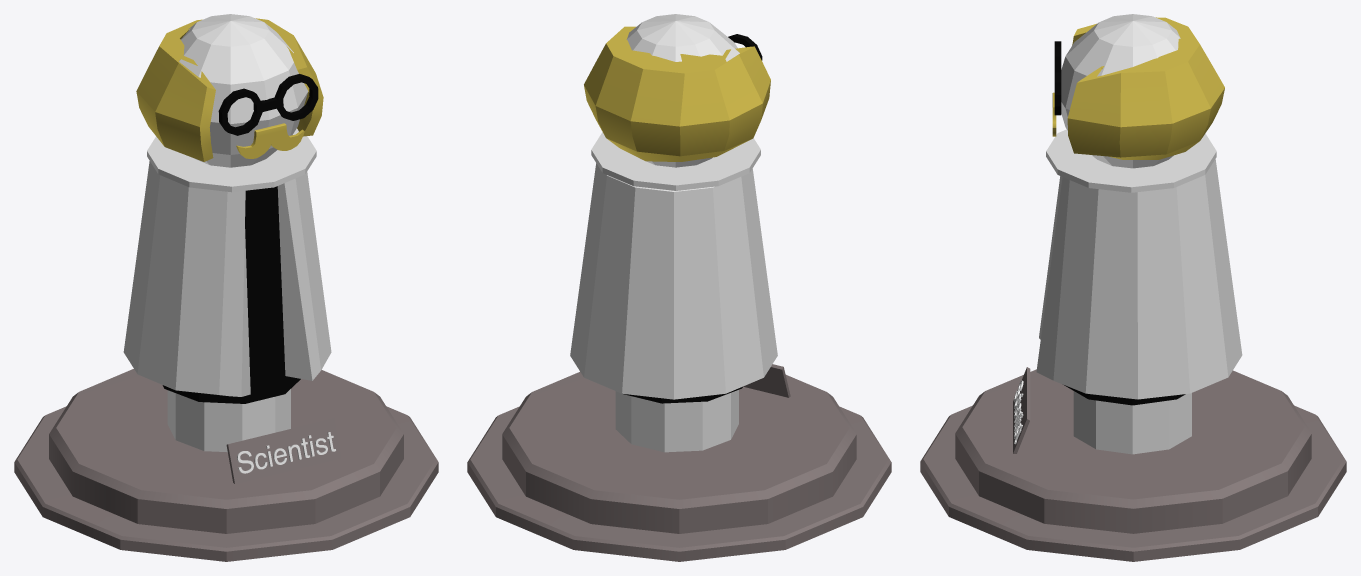
Rendered from scientist.fbx.
3 renders of one model, left to right at view 1: azimuth 30°, elevation 25°; view 2: azimuth 150°, elevation 25°; view 3: azimuth 270°, elevation 25°, orthographic.
Visible parts, largest first — view 1: pCylinder9, pPipe8, pCylinder13, pSphere3, polySurface5, pCylinder14, pCube14, pPipe7, pCube9; view 2: pCylinder9, pPipe8, polySurface5, pCylinder13, pCylinder14, pSphere3, pCube14; view 3: pCylinder9, pPipe8, polySurface5, pCylinder13, pSphere3, pCylinder14, pCube14, pPipe7.
Part boxes in pixels (bbox=[...]): pCylinder9: bbox=[14, 369, 438, 561]; pPipe8: bbox=[123, 161, 331, 396]; pCylinder13: bbox=[162, 186, 300, 452]; pSphere3: bbox=[179, 14, 308, 167]; polySurface5: bbox=[136, 18, 323, 161]; pCylinder14: bbox=[147, 129, 316, 192]; pCube14: bbox=[226, 418, 340, 483]; pPipe7: bbox=[218, 74, 318, 135]; pCube9: bbox=[236, 123, 304, 158]; pCylinder9: bbox=[467, 372, 891, 561]; pPipe8: bbox=[570, 163, 777, 399]; polySurface5: bbox=[584, 26, 770, 161]; pCylinder13: bbox=[615, 386, 742, 452]; pCylinder14: bbox=[591, 132, 760, 190]; pSphere3: bbox=[626, 14, 739, 167]; pCube14: bbox=[743, 364, 790, 397]; pCylinder9: bbox=[920, 369, 1346, 561]; pPipe8: bbox=[1036, 159, 1242, 399]; polySurface5: bbox=[1067, 17, 1224, 159]; pCylinder13: bbox=[1064, 385, 1191, 454]; pSphere3: bbox=[1061, 14, 1180, 168]; pCylinder14: bbox=[1046, 129, 1216, 192]; pCube14: bbox=[1013, 367, 1030, 453]; pPipe7: bbox=[1054, 41, 1061, 115].
Bounding box in the file's own units: 10.26 × 12.02 × 10.26.
